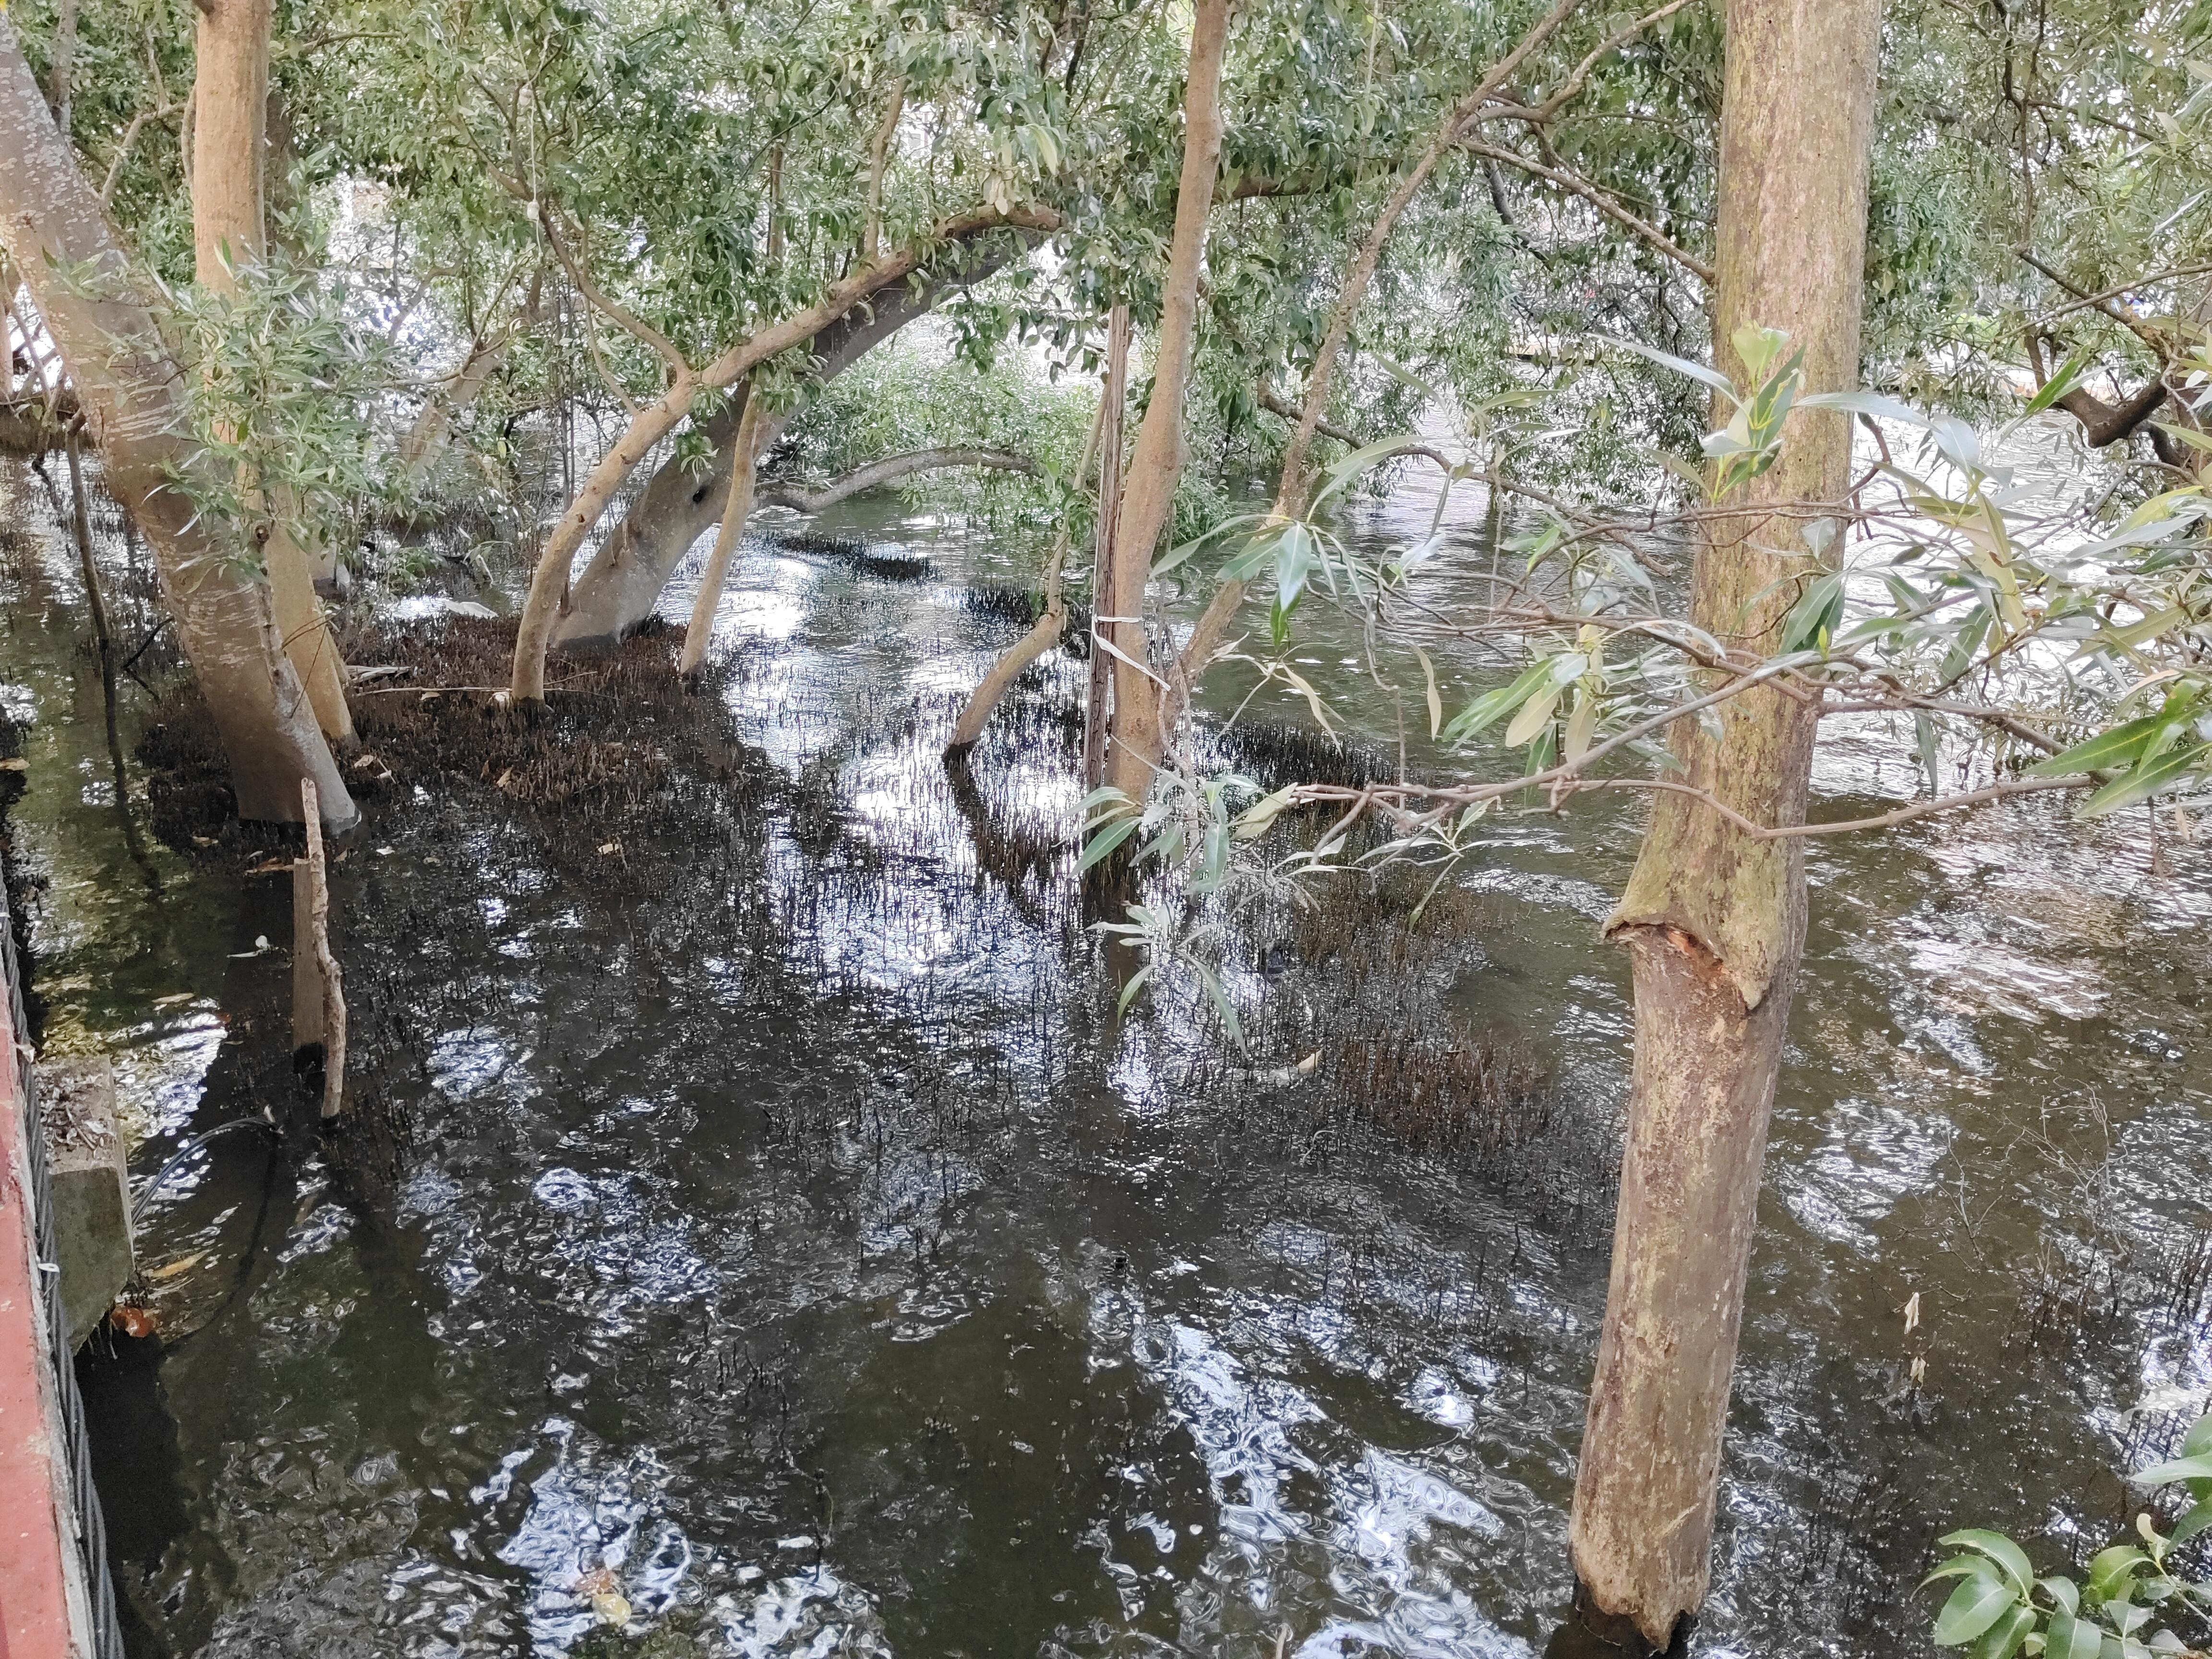Mangrove_Trunk: (1576, 0, 1879, 1629), (2, 0, 374, 850), (514, 178, 1003, 690), (550, 221, 1050, 634), (1096, 0, 1273, 866)
